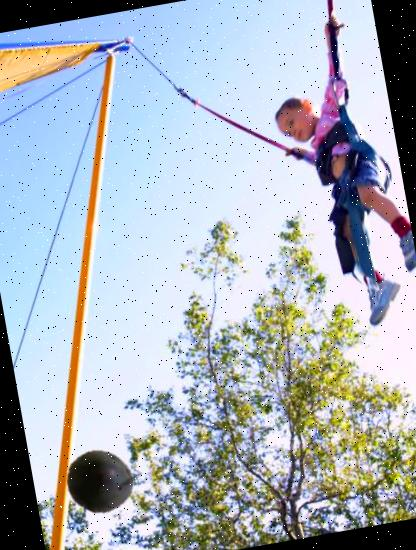Plum: (60, 442, 140, 522)
